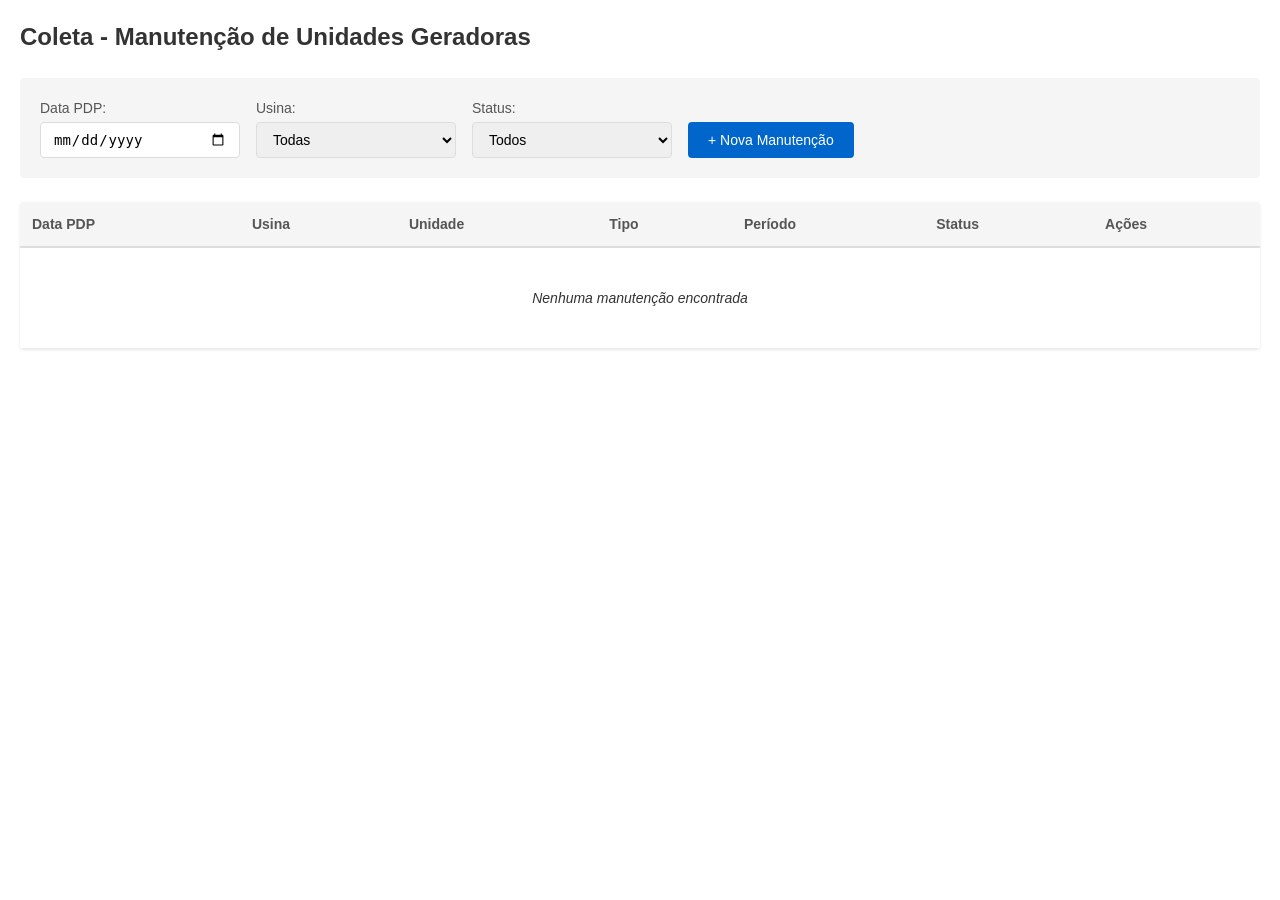
Test case: UnitMaintenance Component › deve abrir diálogo ao clicar em Nova Manutenção
What coordinates should you click on to do the following:
click the button with test id "btn-nova-manutencao"
I would click on:
 (771, 140)
Its box is x1=688 y1=122 x2=854 y2=158.
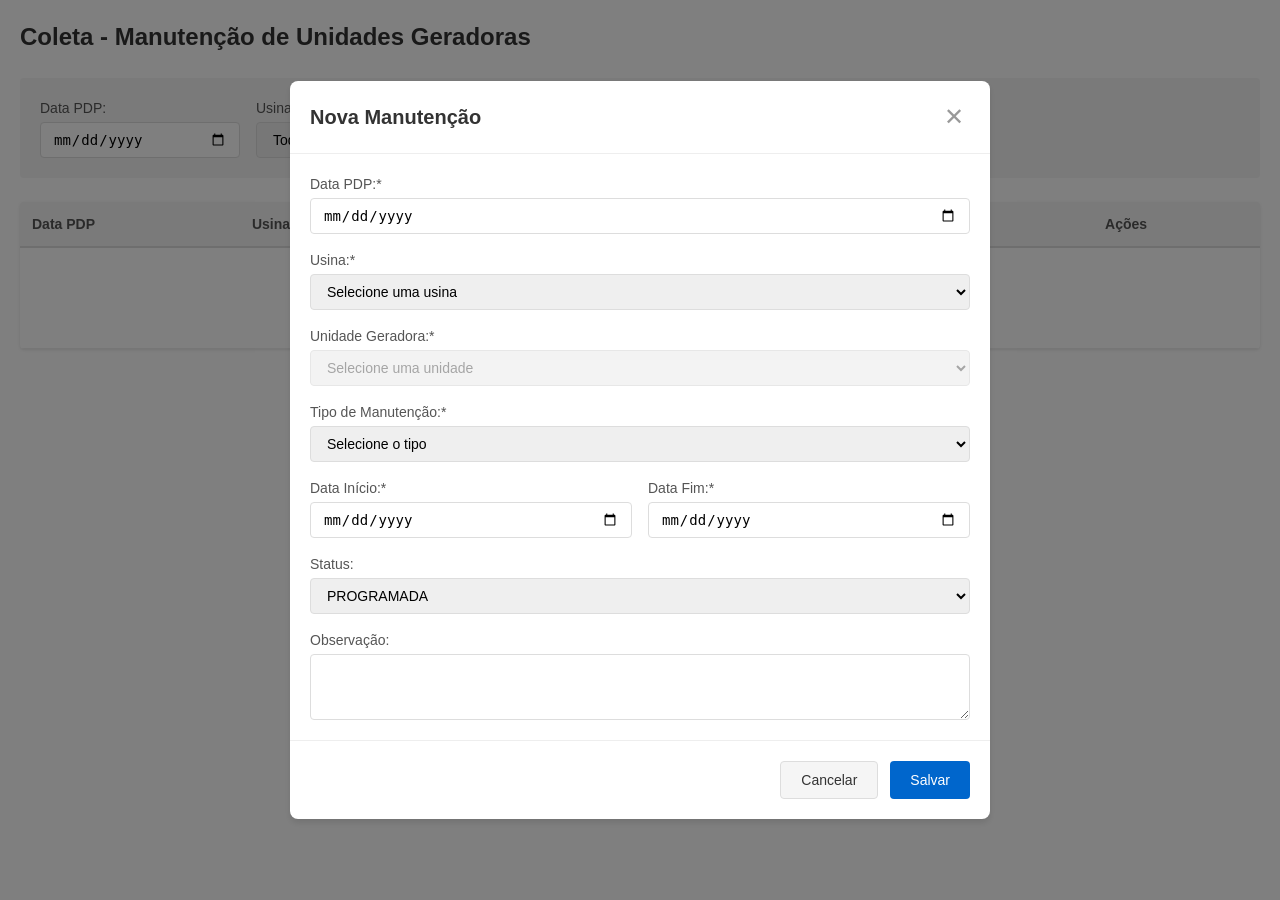
expect the element with test id "dialog-form" is shown: met
